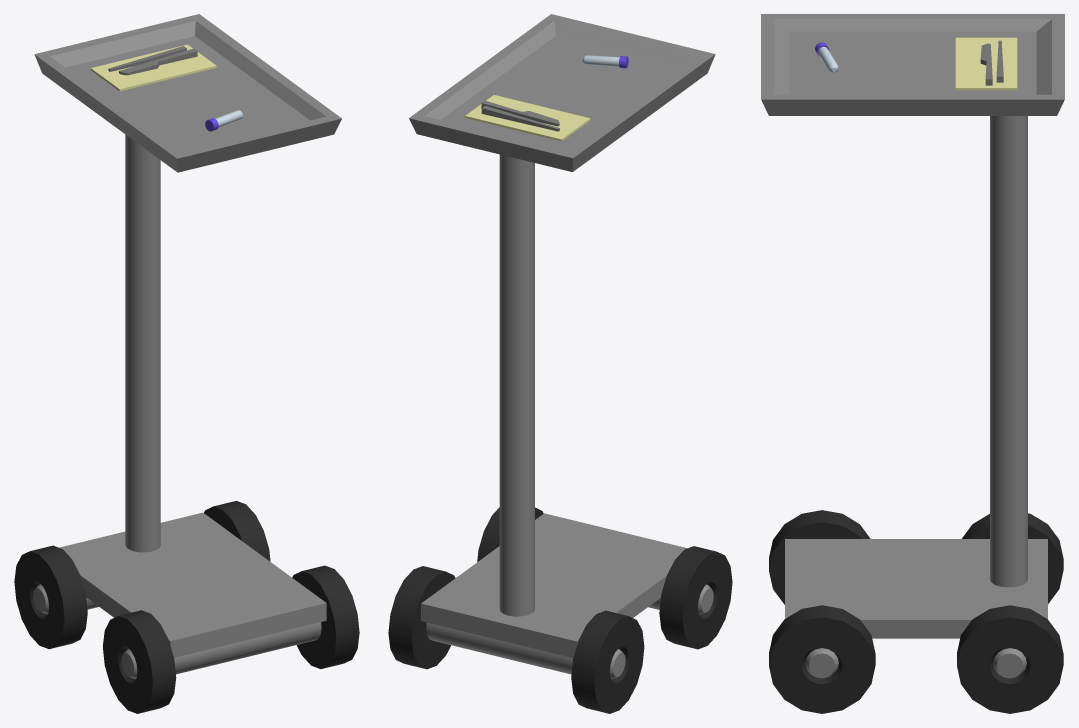
Rendered from mobileTray.fbx.
The picture shows the model from 3 angles, left to right: view 1: azimuth 30°, elevation 25°; view 2: azimuth 150°, elevation 25°; view 3: azimuth 270°, elevation 25°; orthographic projection. The views are drawn at different scales.
Visible parts, largest first — view 1: Mobile Tray; view 2: Mobile Tray; view 3: Mobile Tray.
Part boxes in pixels (x1,y1,x2,y2): Mobile Tray: (14, 14, 359, 713); Mobile Tray: (388, 14, 732, 713); Mobile Tray: (761, 14, 1064, 713).
Size of the model in its own units: 31.71 by 37.98 by 83.67.
